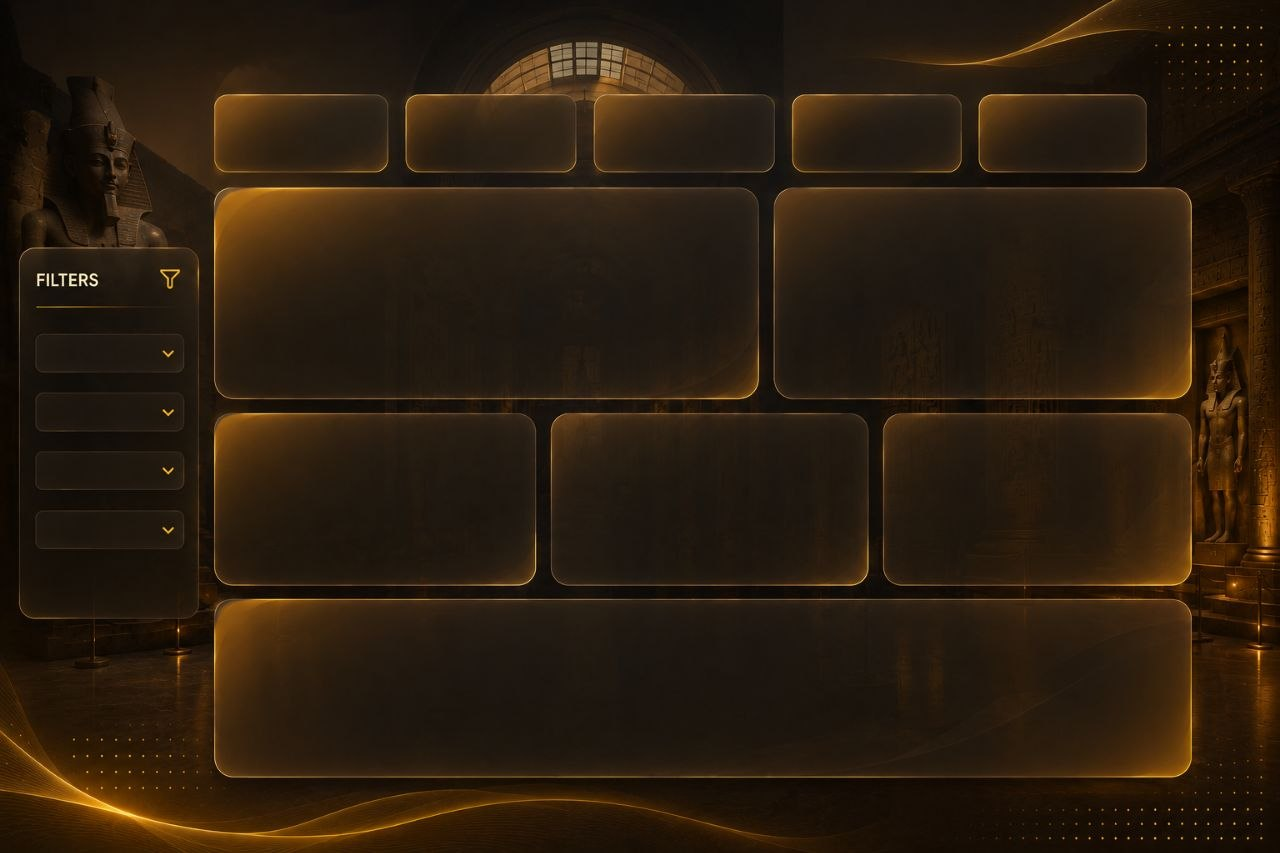

The page's visual inventory and layout, read from the dashboard file:
{"tool":"powerbi","page":{"name":"Overview","canvas":[1920,1080],"ordinal":0},"visuals":[{"type":"cardVisual","fields":{"Data":["CountNonNull(DimVisitor.VisitorKey)"]},"box":[320.5,23.9,262,133],"z":0},{"type":"cardVisual","fields":{"Data":["Sum(FactSales.Profit)"]},"box":[1472.4,23.9,262,133],"z":1000},{"type":"cardVisual","fields":{"Data":["Sum(FactSales.TotalCost)"]},"box":[1190.4,23.9,262,133],"z":2000},{"type":"cardVisual","fields":{"Data":["Sum(FactSales.NetSales)"]},"box":[900.4,23.9,262,133],"z":3000},{"type":"cardVisual","fields":{"Data":["Sum(FactSales.UnitPrice)"]},"box":[602.5,23.9,262,133],"z":4000},{"type":"slicer","fields":{"Values":["DimVisitor.Country"]},"box":[57.4,403.7,216.2,68],"z":5000},{"type":"slicer","fields":{"Values":["DimVisitor.Gender"]},"box":[57.4,492.9,216.2,68],"z":6000},{"type":"slicer","fields":{"Values":["DimTicket.Category"]},"box":[57.4,579,216.2,68],"z":7000},{"type":"slicer","fields":{"Values":["DimDate.Date.Variation.Date Hierarchy.Year"]},"box":[57.4,668.2,216.2,68],"z":8000},{"type":"columnChart","fields":{"Category":["DimDate.Date.Variation.Date Hierarchy.Year","DimDate.Date.Variation.Date Hierarchy.Quarter","DimDate.Date.Variation.Date Hierarchy.Month","DimDate.Date.Variation.Date Hierarchy.Day"],"Y":["Sum(FactSales.Profit)"]},"box":[1162.6,179.9,621.4,312.9],"z":9000},{"type":"columnChart","fields":{"Category":["DimDate.Date.Variation.Date Hierarchy.Year","DimDate.Date.Variation.Date Hierarchy.Quarter","DimDate.Date.Variation.Date Hierarchy.Month","DimDate.Date.Variation.Date Hierarchy.Day"],"Y":["Sum(FactSales.GrossSales)"]},"box":[409.7,179.9,621.4,312.9],"z":10000},{"type":"donutChart","fields":{"Category":["DimTicket.Category"],"Y":["Sum(FactSales.Profit)"]},"box":[320.5,506.5,489.8,285.7],"z":11000},{"type":"donutChart","fields":{"Category":["DimVisitor.VisitorSegment"],"Y":["Sum(FactSales.Profit)"]},"box":[820.9,506.5,489.8,285.7],"z":12000},{"type":"donutChart","fields":{"Category":["DimVisitor.VisitorSegment"],"Y":["Sum(FactSales.NetSales)"]},"box":[1321.3,506.5,489.8,285.7],"z":13000},{"type":"lineChart","fields":{"Category":["DimDate.Date.Variation.Date Hierarchy.Month"],"Y":["Sum(FactSales.Profit)"]},"box":[320.5,792.2,1477,266.1],"z":14000},{"type":"shape","box":[1829.3,3,78.6,42.3],"z":14001},{"type":"image","box":[57.4,848.1,216.2,170.8],"z":14002},{"type":"image","box":[18.1,6,228.3,167.8],"z":14003},{"type":"image","box":[1771.8,65,136.1,102.8],"z":14004},{"type":"image","box":[39.3,173.9,83.1,89.2],"z":14005},{"type":"image","box":[161.8,176.9,84.7,83.1],"z":14006},{"type":"image","box":[1189.8,78.6,80.1,51.4],"z":14007},{"type":"image","box":[1474,69.5,59,68],"z":14008},{"type":"image","box":[901,65,59,80.1],"z":14009},{"type":"image","box":[595.7,78.6,125.5,66.5],"z":14010},{"type":"image","box":[320.5,78.6,107.3,60.5],"z":14011}]}

Visuals, with their boxes in screenshot pixels (x1, y1, x2, y2):
cardVisual - CountNonNull(DimVisitor.VisitorKey): (214,89,386,176)
cardVisual - Sum(FactSales.Profit): (971,89,1144,176)
cardVisual - Sum(FactSales.TotalCost): (786,89,958,176)
cardVisual - Sum(FactSales.NetSales): (595,89,768,176)
cardVisual - Sum(FactSales.UnitPrice): (399,89,572,176)
slicer - DimVisitor.Country: (41,339,183,383)
slicer - DimVisitor.Gender: (41,397,183,442)
slicer - DimTicket.Category: (41,454,183,499)
slicer - DimDate.Date.Variation.Date Hierarchy.Year: (41,513,183,557)
columnChart - DimDate.Date.Variation.Date Hierarchy.Year x DimDate.Date.Variation.Date Hierarchy.Quarter: (768,192,1176,397)
columnChart - DimDate.Date.Variation.Date Hierarchy.Year x DimDate.Date.Variation.Date Hierarchy.Quarter: (273,192,681,397)
donutChart - DimTicket.Category x Sum(FactSales.Profit): (214,406,536,594)
donutChart - DimVisitor.VisitorSegment x Sum(FactSales.Profit): (543,406,865,594)
donutChart - DimVisitor.VisitorSegment x Sum(FactSales.NetSales): (872,406,1194,594)
lineChart - DimDate.Date.Variation.Date Hierarchy.Month x Sum(FactSales.Profit): (214,594,1185,769)
shape: (1206,75,1258,103)
image: (41,631,183,743)
image: (15,77,165,188)
image: (1168,116,1258,184)
image: (29,188,84,246)
image: (110,190,165,244)
image: (786,125,838,159)
image: (972,119,1011,164)
image: (596,116,634,169)
image: (395,125,477,169)
image: (214,125,285,165)
